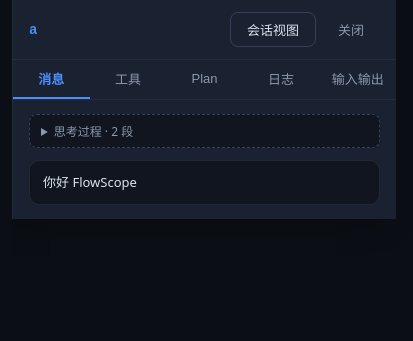
NodeDrawer：五 tab › 输入输出 tab：输入 M2 占位 + 成功后拉取 output artifact
Click the tab "输入输出" at (358, 80), box top-left (319, 60), bottom-right (396, 99)
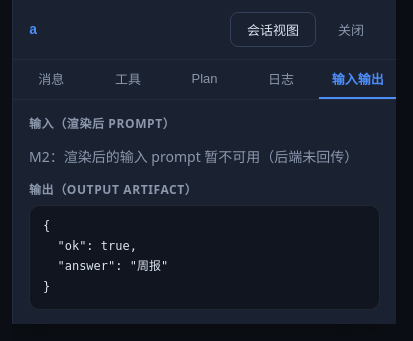
Check: the text "{ \"ok\": true, \"answer\": \"周报\" }" is shown, box top-left (43, 219), bottom-right (168, 294)
